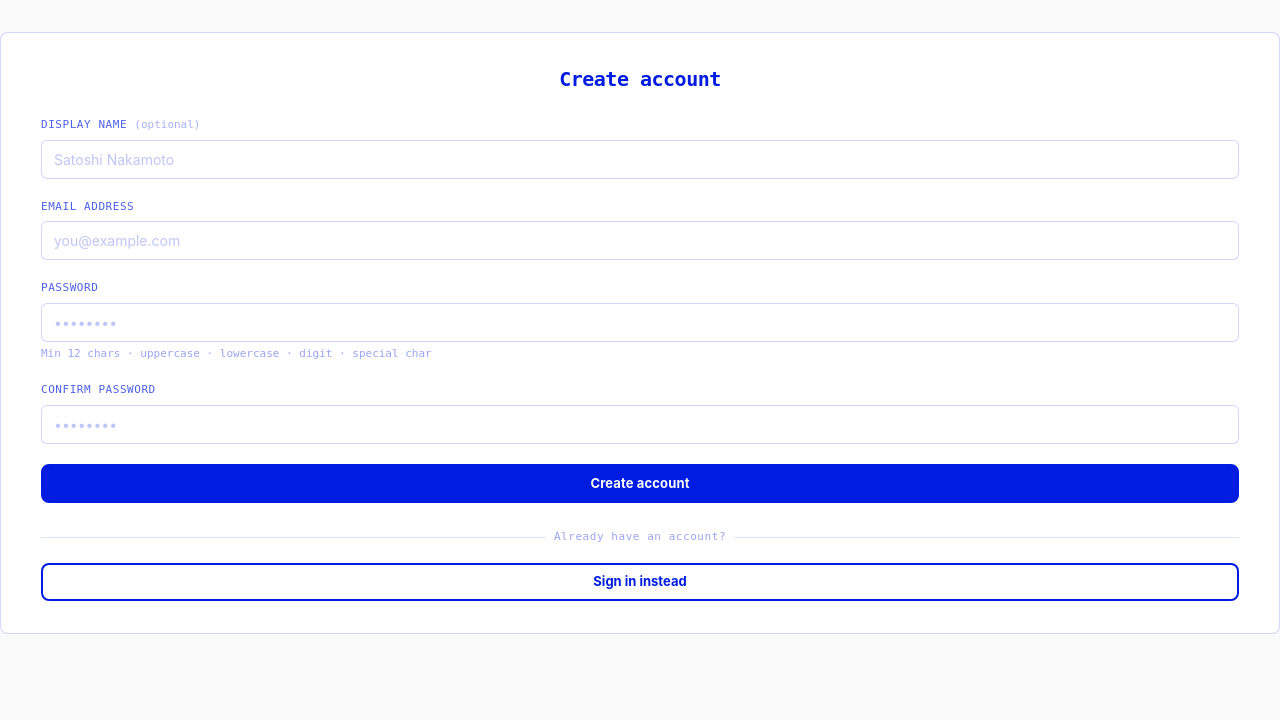
Test case: Authentication Flow Integration › Error Handling › handles registration failure for duplicate email
This screenshot has width=1280, height=720.
In the field labelled "Email address": [640, 240] box [41, 221, 1239, 260], type "duplicate@example.com"
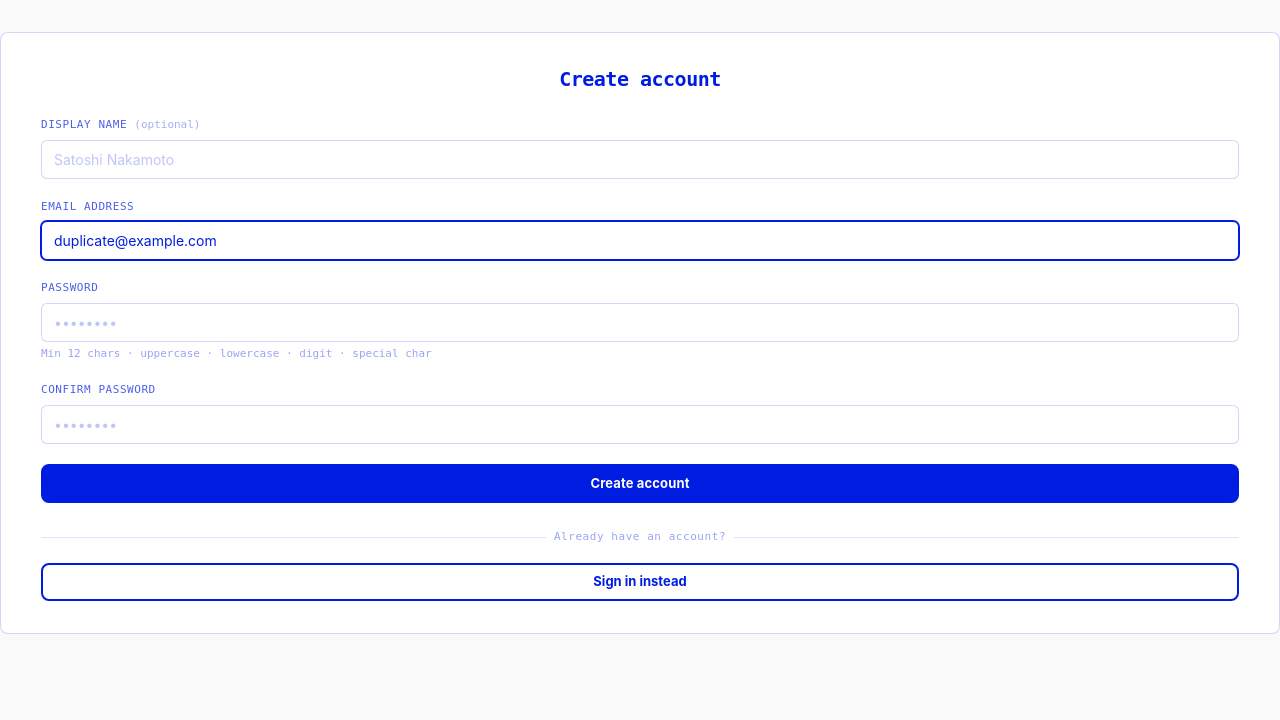
In the password field labelled "Password": [640, 322] box [41, 302, 1239, 342], type "SecurePass123!"
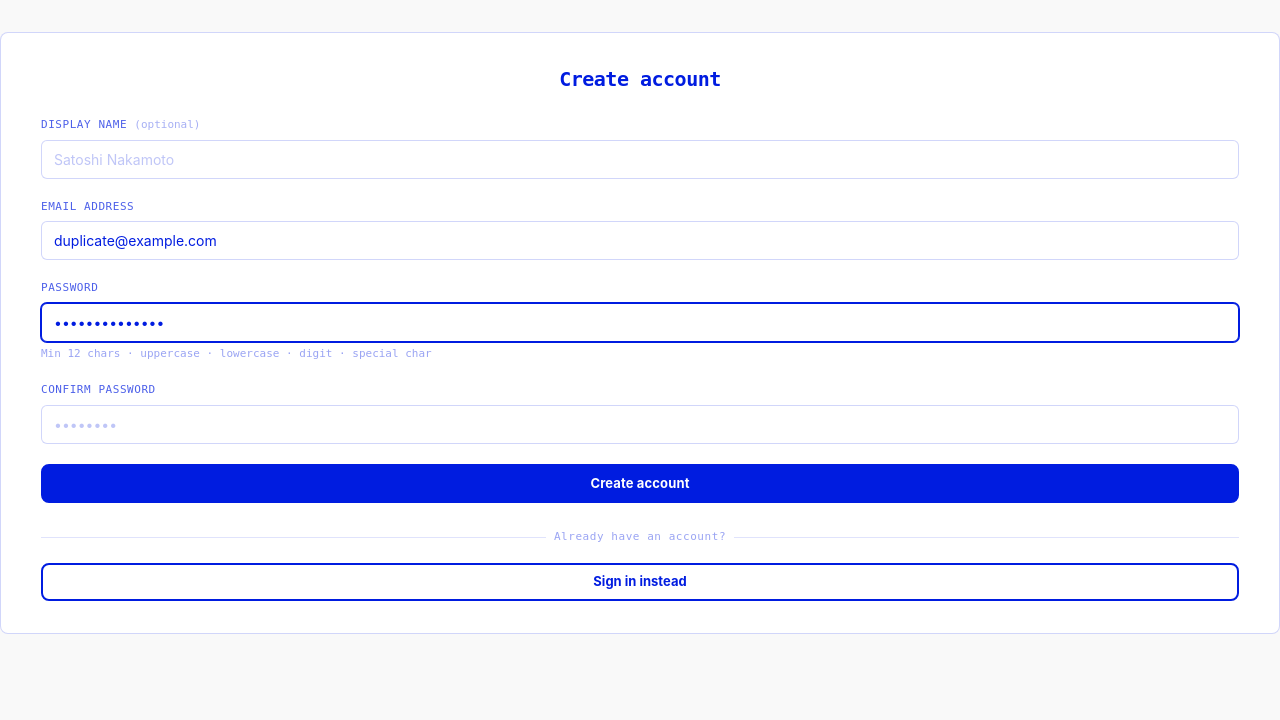
In the password field labelled "Confirm password": [640, 424] box [41, 404, 1239, 444], type "SecurePass123!"
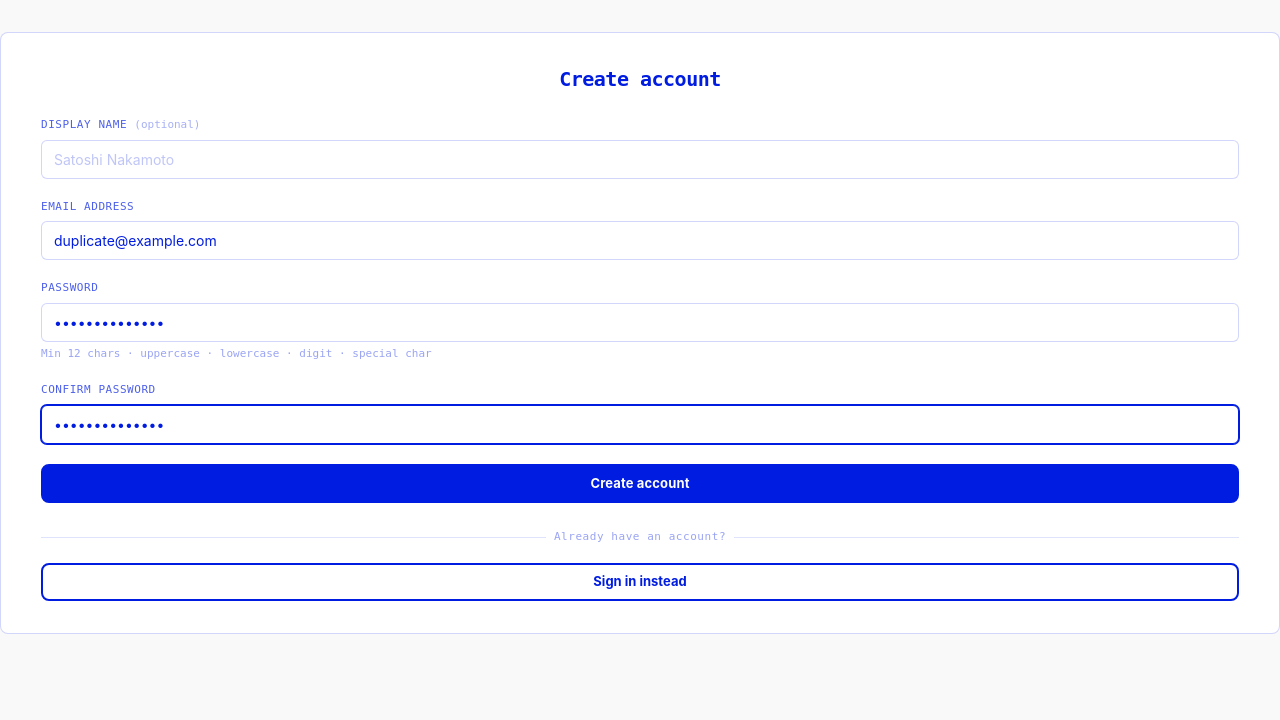
Click the button "Create account": [640, 483] box [41, 464, 1239, 503]
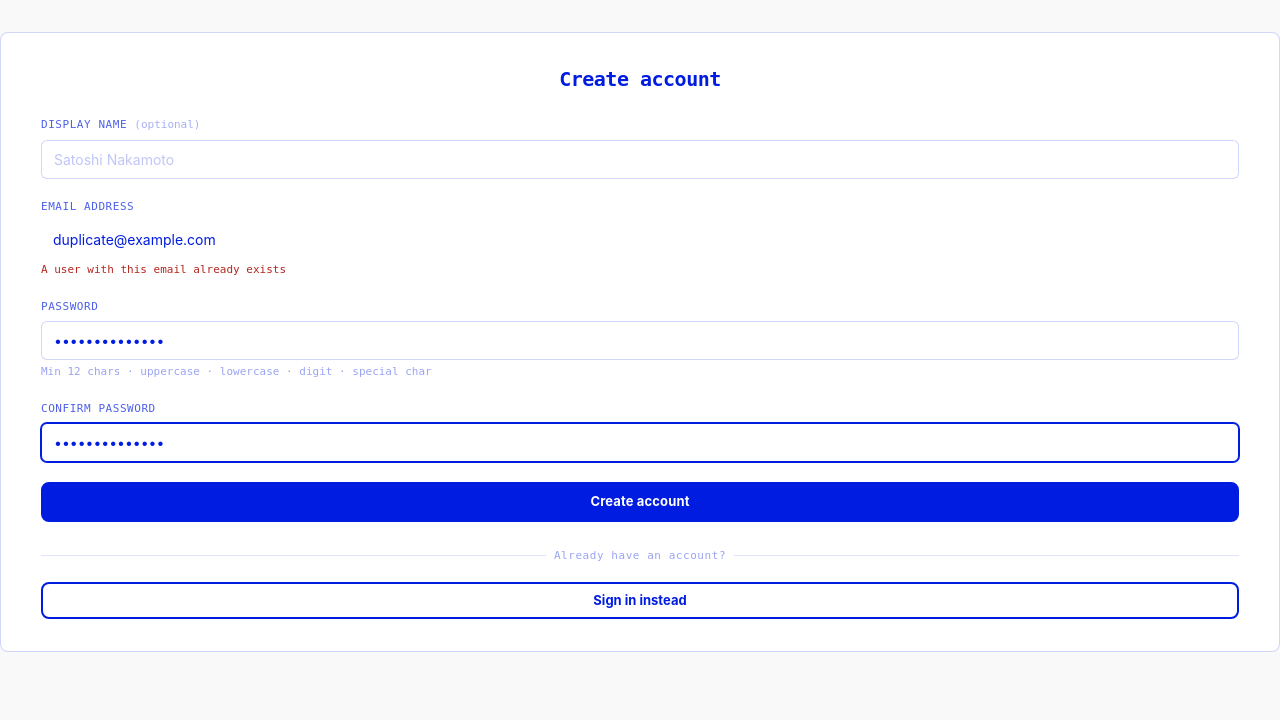
Result: the text "A user with this email already exists" is shown at [41, 263, 286, 276]
